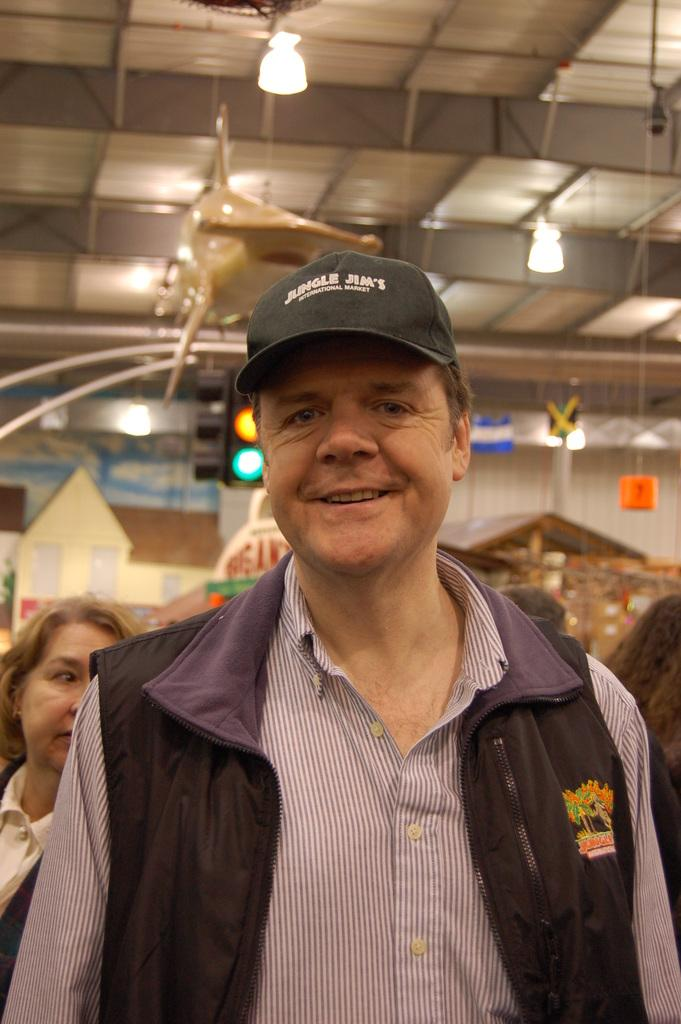Hat: (238, 246, 460, 392)
